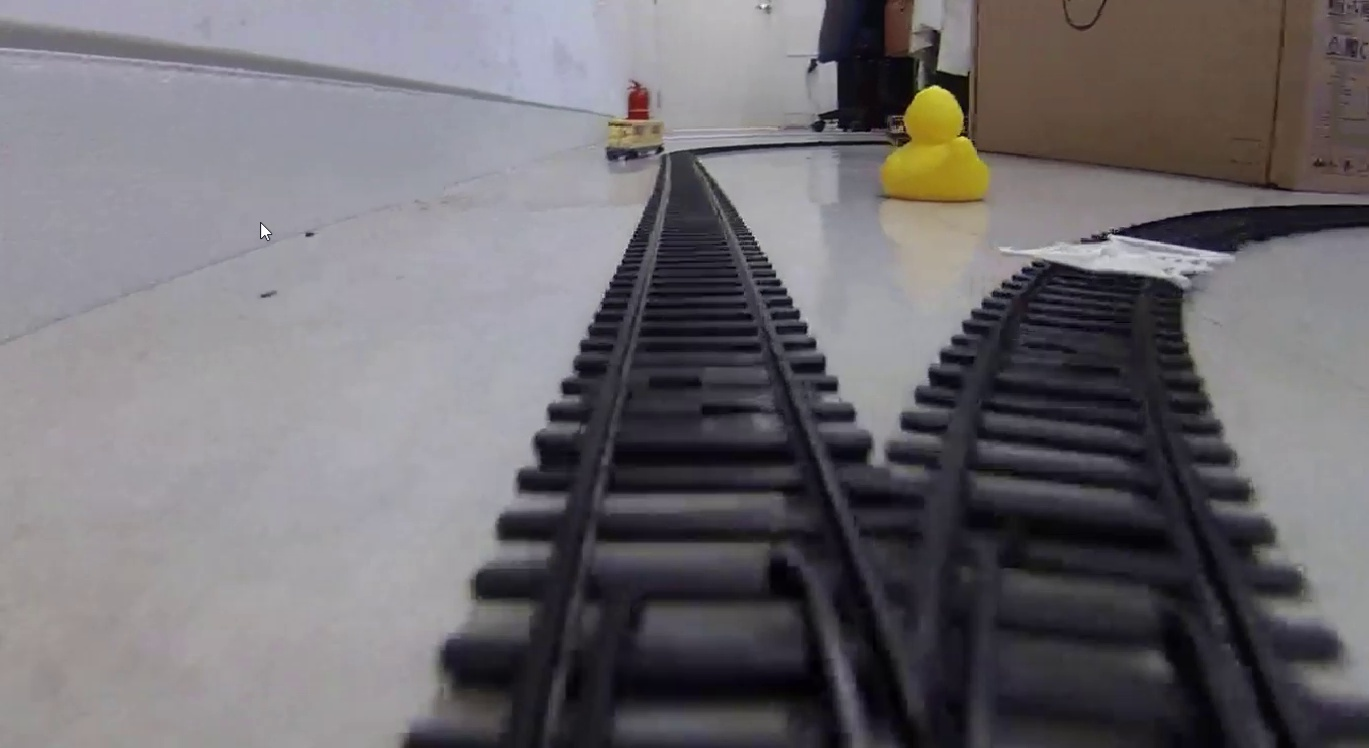web: (1005, 235, 1238, 291)
